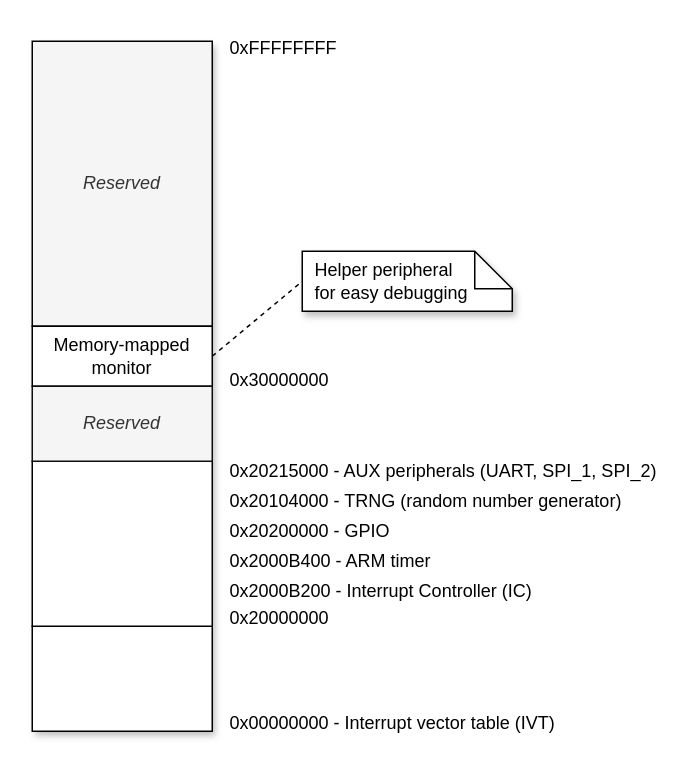
Image size: 687x771. Some labels were removed from this diagram. The shapes that lost their labels are listed below. From the top down, each one's centre as x and y in pixels, then its label:
At (121,543): "Memory-mapped peripherals".
At (121,678): "RAM".
